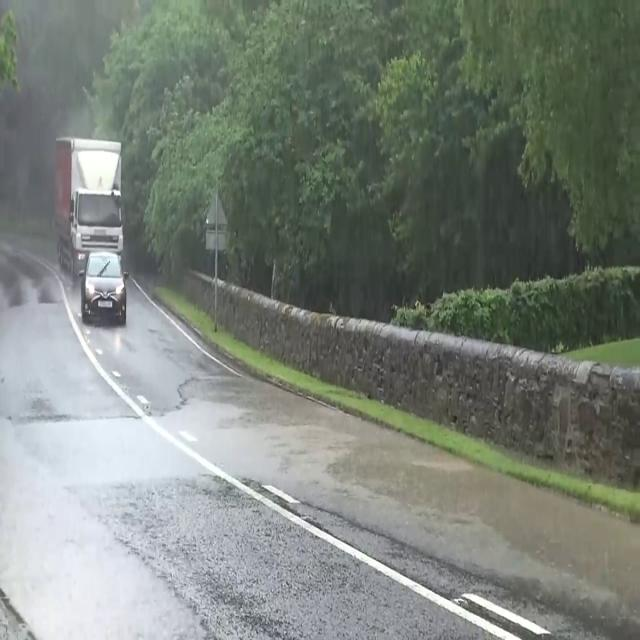license-plate-annotation: (97, 299, 114, 310)
